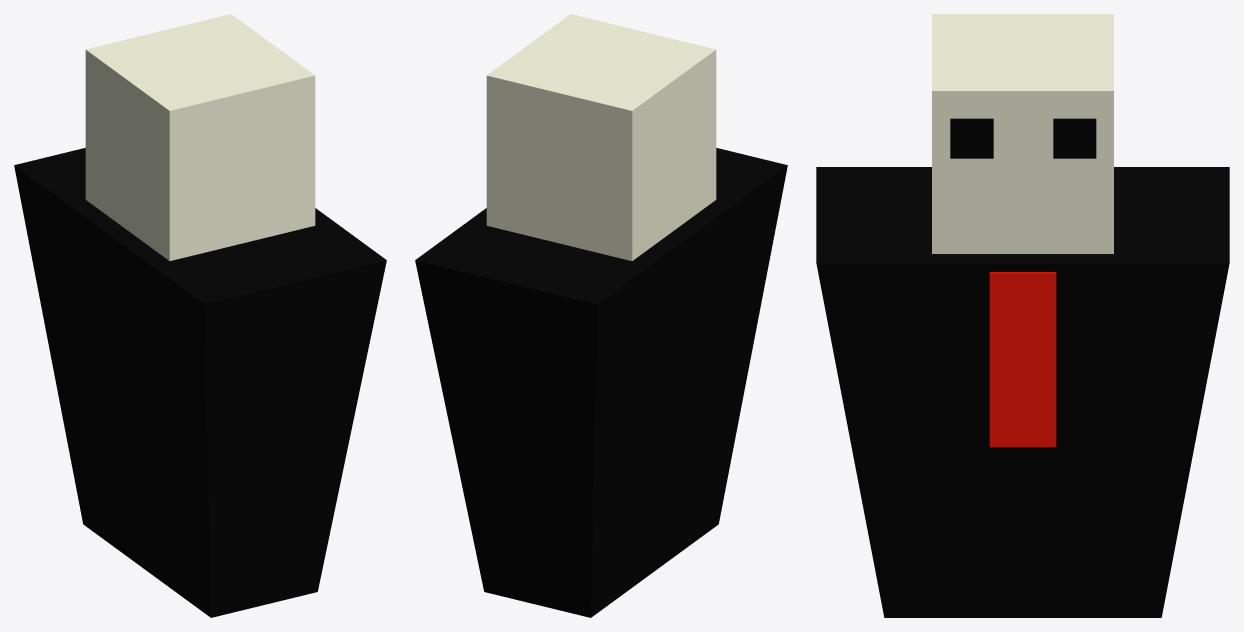
Rendered from user1.glb.
3 renders of one model, left to right at view 1: azimuth 30°, elevation 25°; view 2: azimuth 150°, elevation 25°; view 3: azimuth 270°, elevation 25°, orthographic. The views are drawn at different scales.
Visible parts, largest first — view 1: Cube, Cube.001; view 2: Cube, Cube.001; view 3: Cube, Cube.001, Cube.002, Cube.003, Cube.004.
Boxes of the visible parts, x1,y1,x2,y2 form: Cube: [14, 148, 386, 617]; Cube.001: [85, 14, 315, 260]; Cube: [415, 148, 787, 617]; Cube.001: [486, 14, 716, 260]; Cube: [816, 167, 1229, 617]; Cube.001: [932, 14, 1113, 253]; Cube.002: [989, 272, 1056, 447]; Cube.003: [950, 118, 993, 158]; Cube.004: [1053, 118, 1096, 158].
Bounding box in the file's own units: 1.24 × 2.87 × 2.
